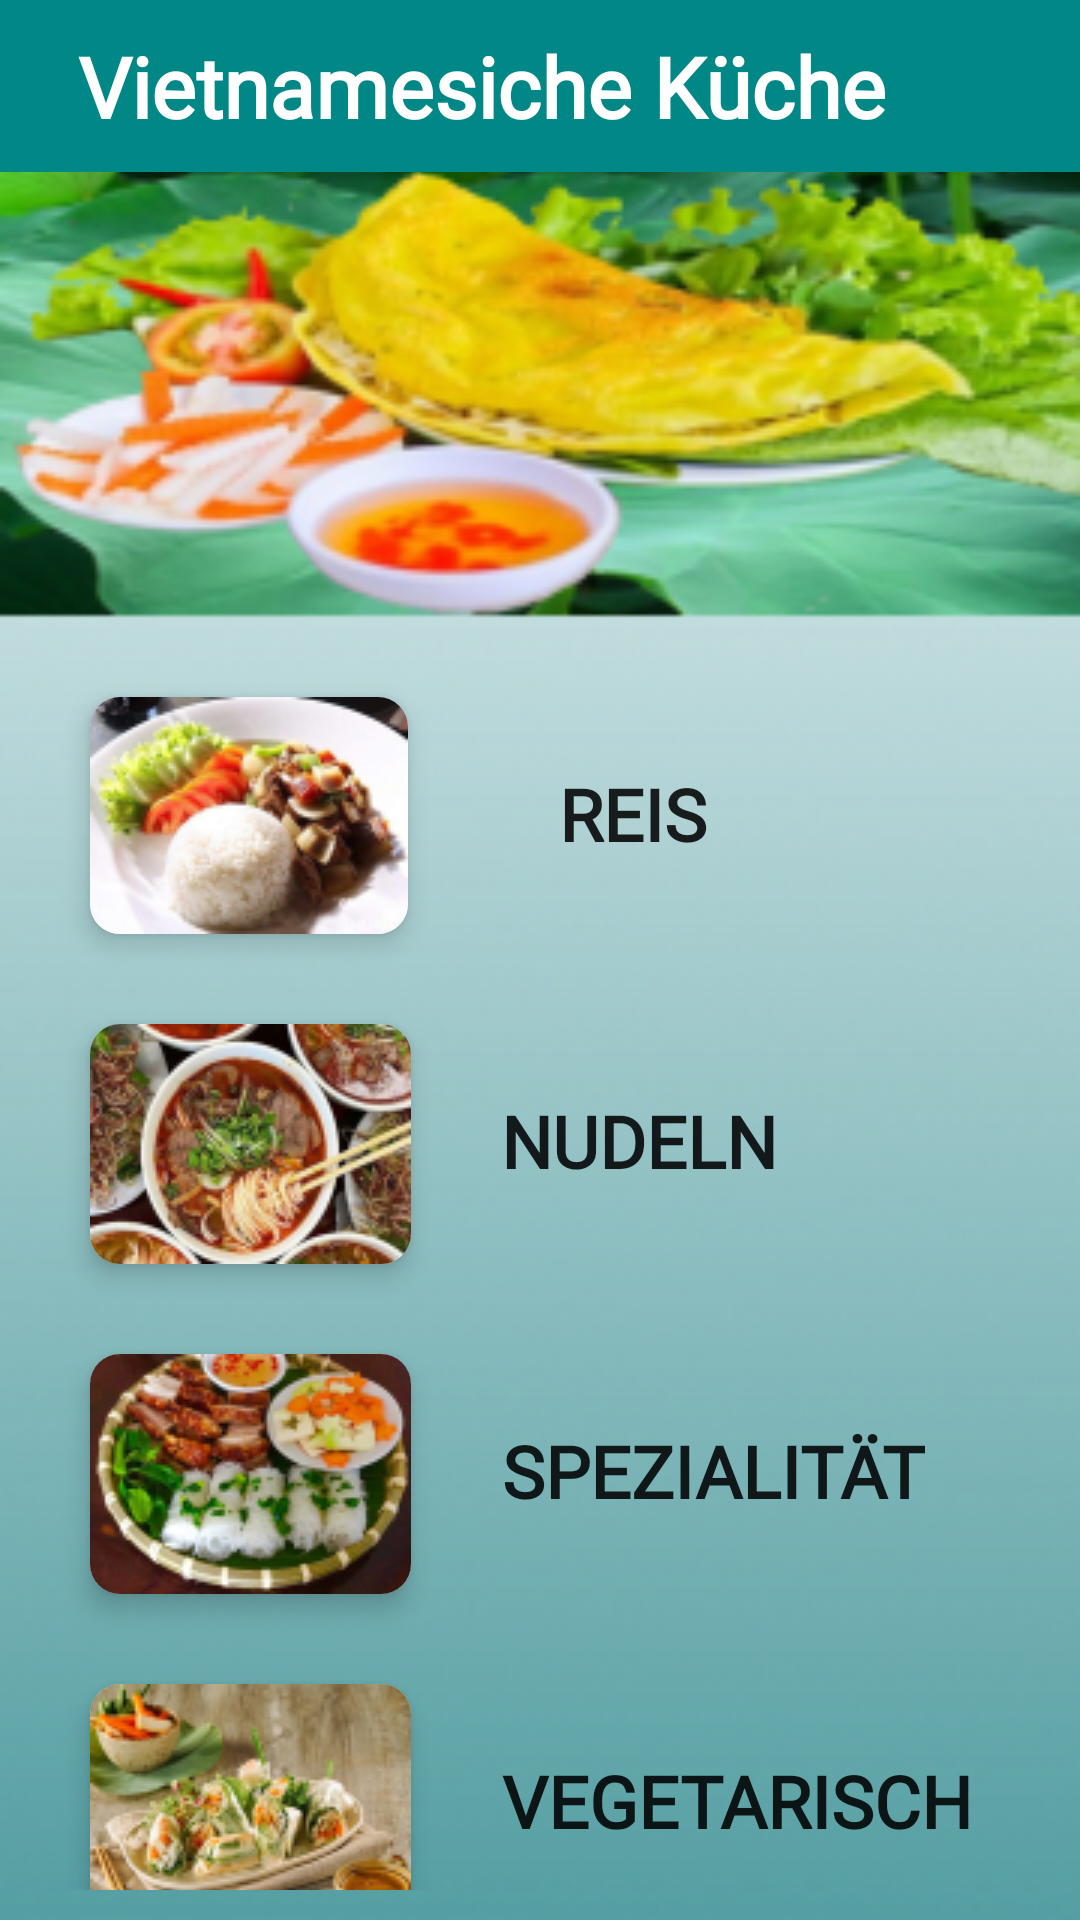

Point at icon controls on the screen. Image size 1080 × 1920, points as [x,y].
spezialitaet: [250,1474]
